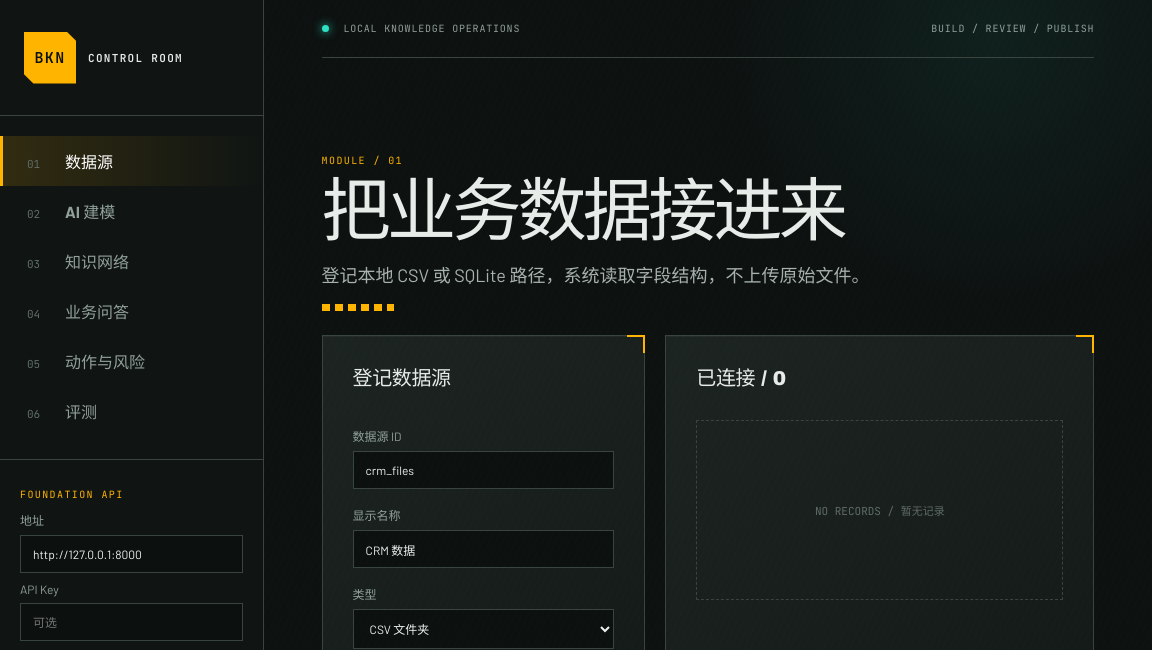
Test: MiniBKN control room › prevents publication until every modeling proposal is reviewed
Click the button "02 AI 建模" at (90, 212), box 0,186 -> 263,236
(page scrolled)
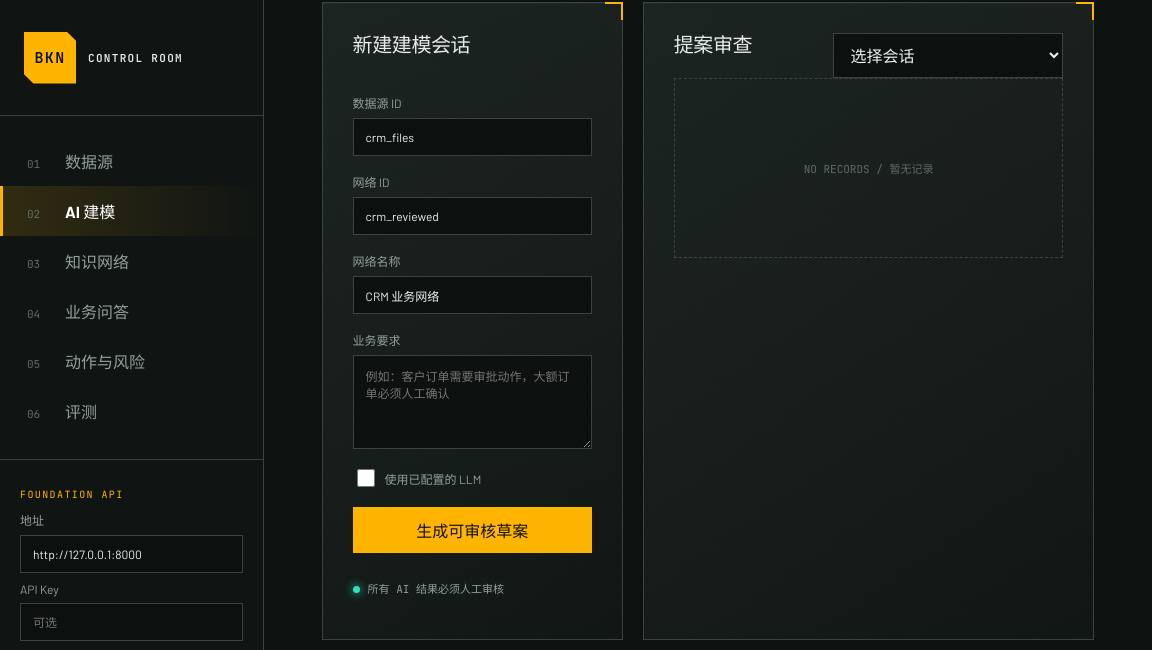
Click the button "生成可审核草案" at (472, 530), box 353,507 -> 592,553
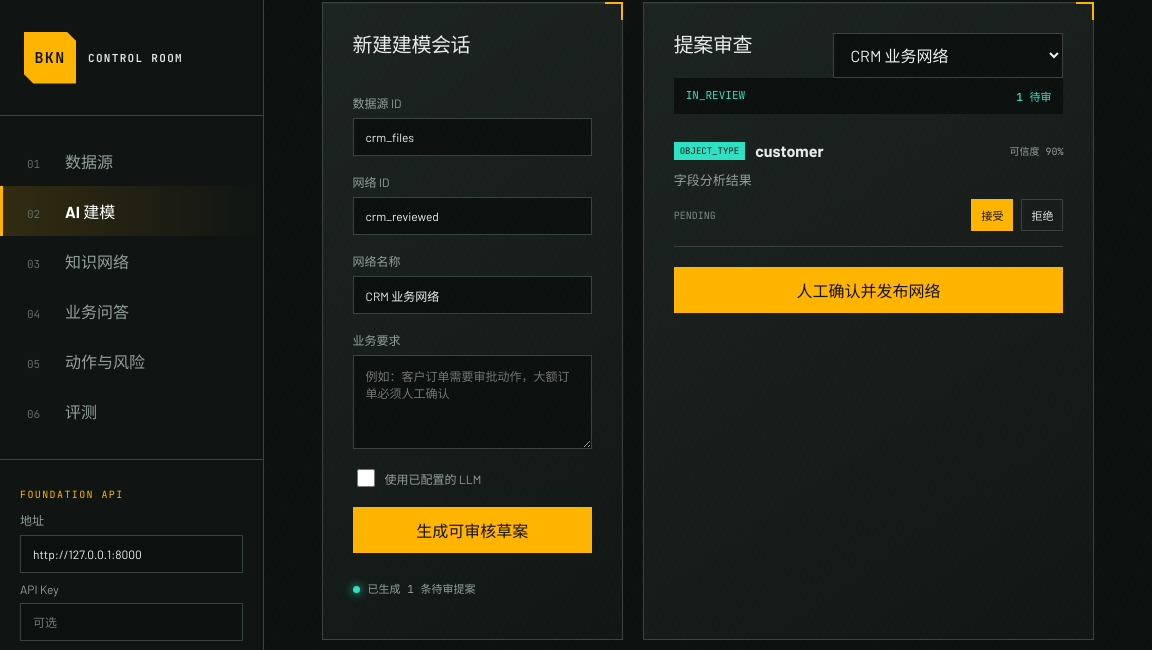
Now the button "人工确认并发布网络" is disabled, box 674,267 -> 1063,313
Click the button "接受" at (992, 215), box 971,199 -> 1013,231
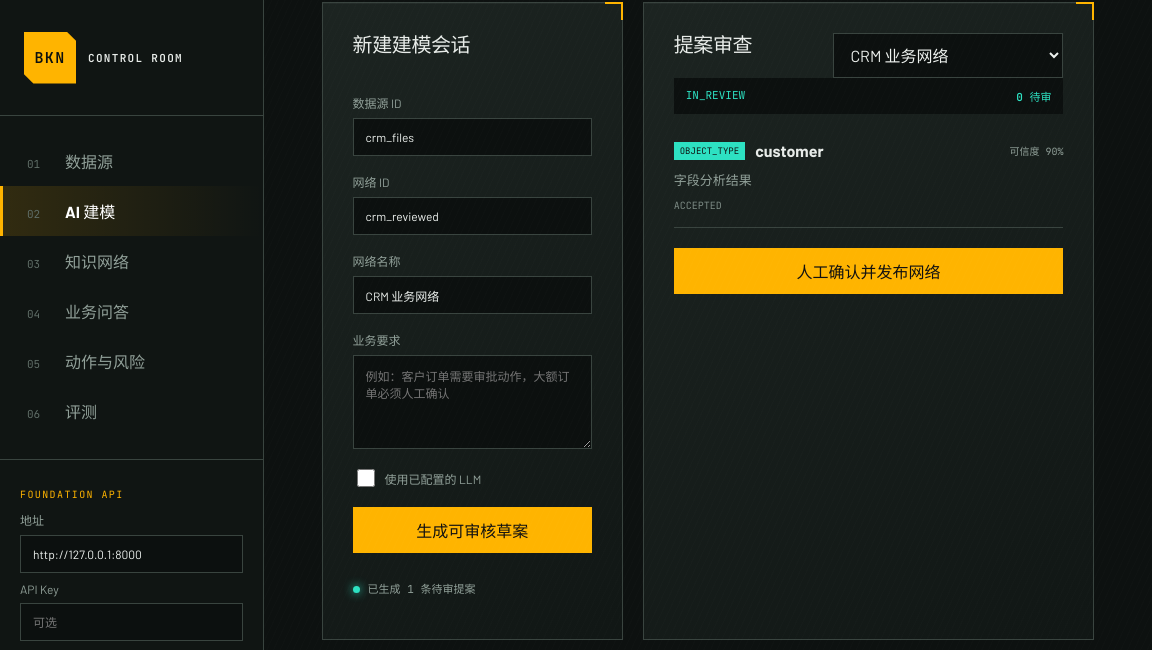
Now the button "人工确认并发布网络" is enabled, box 674,248 -> 1063,294
Now the button "接受" is gone
